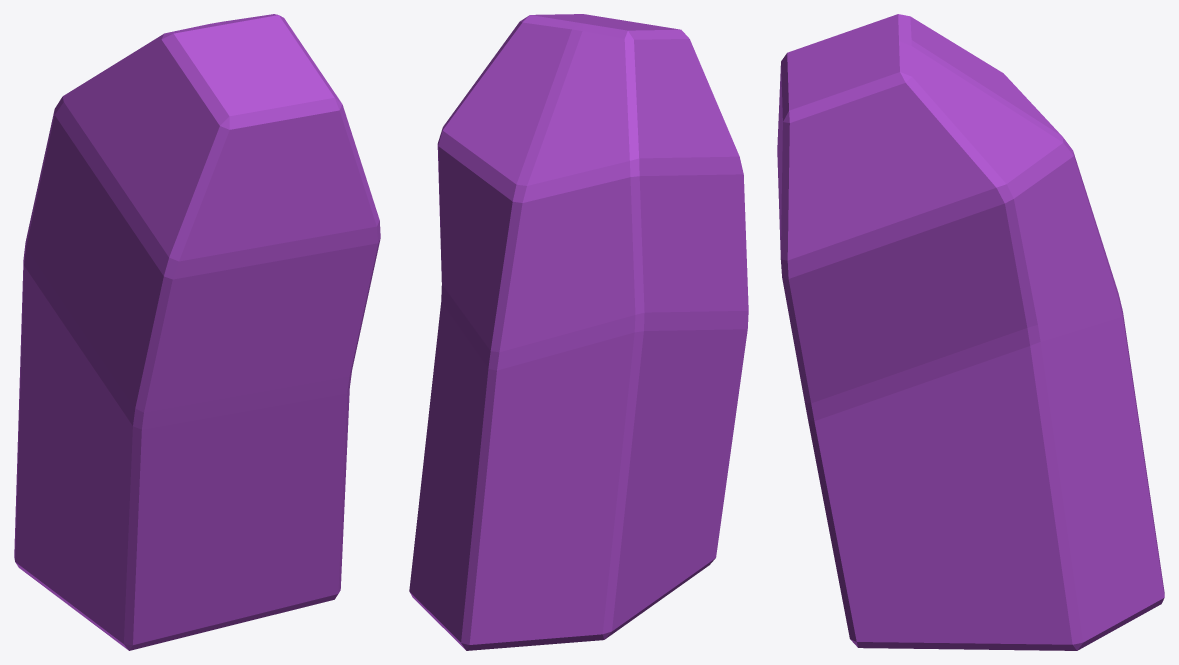
File: Factory_Stone_2.fbx
3 renders of one model, left to right at view 1: azimuth 30°, elevation 25°; view 2: azimuth 150°, elevation 25°; view 3: azimuth 270°, elevation 25°, orthographic. The views are drawn at different scales.
Visible parts, largest first — view 1: Factory Stone 2; view 2: Factory Stone 2; view 3: Factory Stone 2.
Part boxes in pixels (bbox=[...]): Factory Stone 2: bbox=[14, 14, 380, 650]; Factory Stone 2: bbox=[409, 14, 748, 650]; Factory Stone 2: bbox=[777, 14, 1164, 650].
Bounding box in the file's own units: 1059 × 2493 × 1533.
